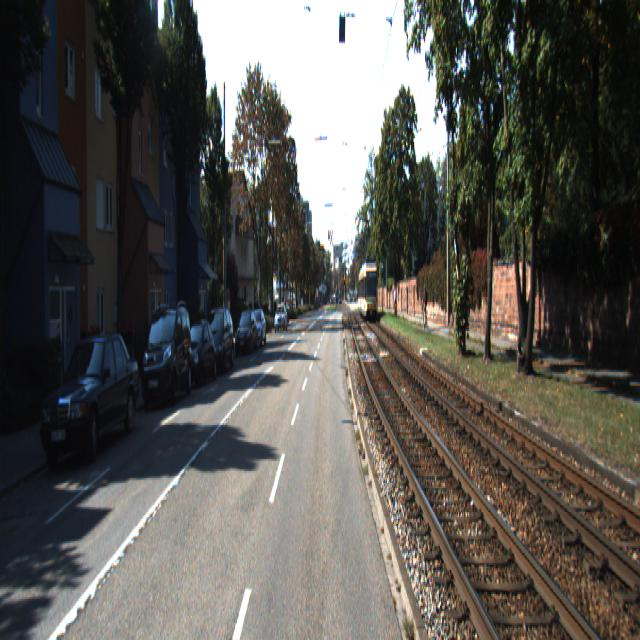Car: (39, 328, 141, 474), (138, 302, 194, 413), (179, 319, 216, 391), (200, 305, 234, 378), (358, 260, 378, 322), (235, 310, 258, 358), (247, 310, 267, 350)
